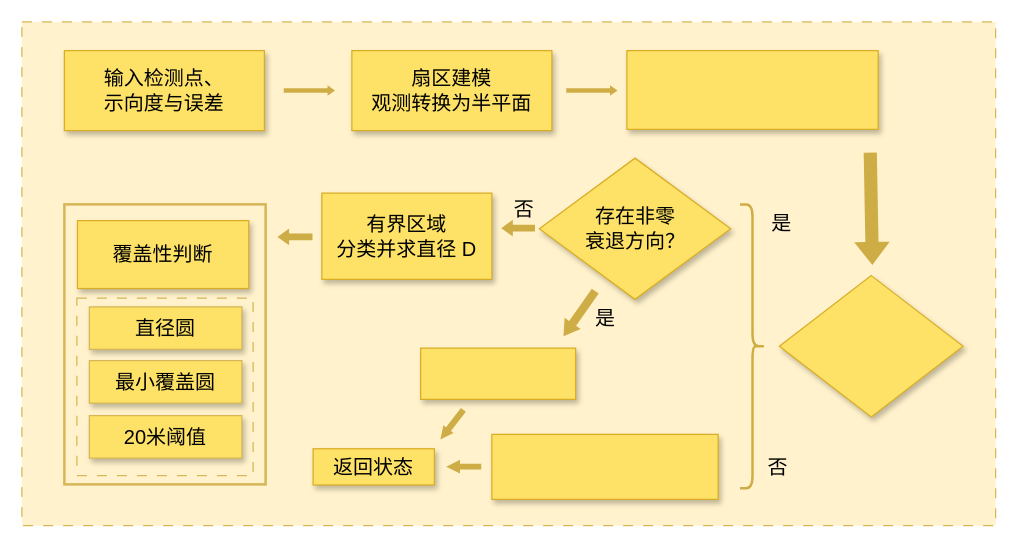
Some shapes in this 1018 by 548 pixel diagram are drawn without their labels. Each missing label, with the centre of its shape:
"存在共同 可行点？" goes at pixel 872 347.
"无界，直径为∞" goes at pixel 498 375.
"空集 无共同可行位置" goes at pixel 606 468.
"筛选交点与可行性见证 确定可行点与候选顶点" goes at pixel 753 91.
